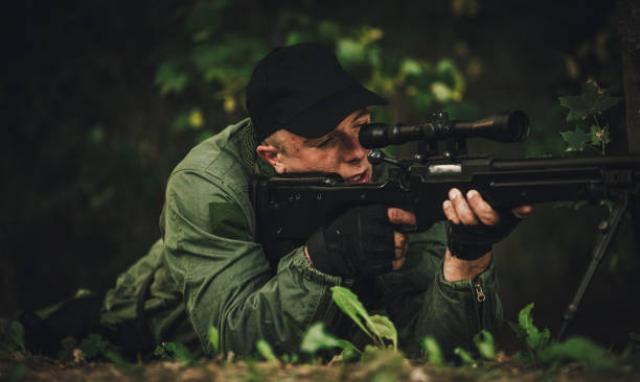other: (155, 33, 508, 349)
